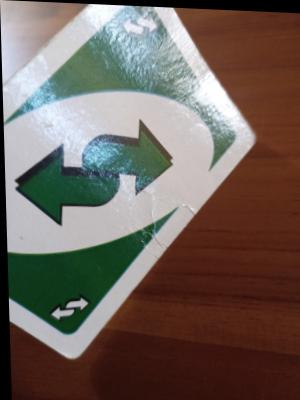green: (3, 88, 175, 242)
